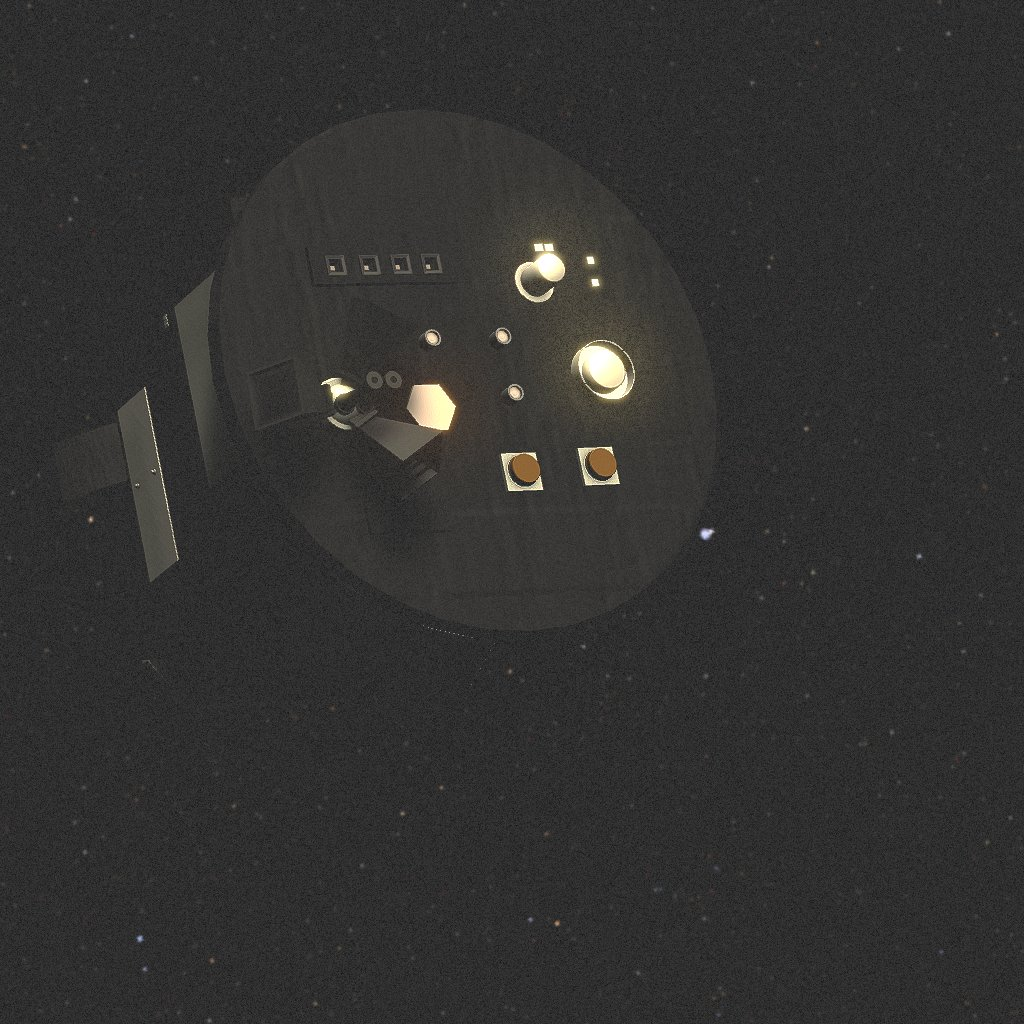proba_3_ocs: (45, 106, 721, 711)
